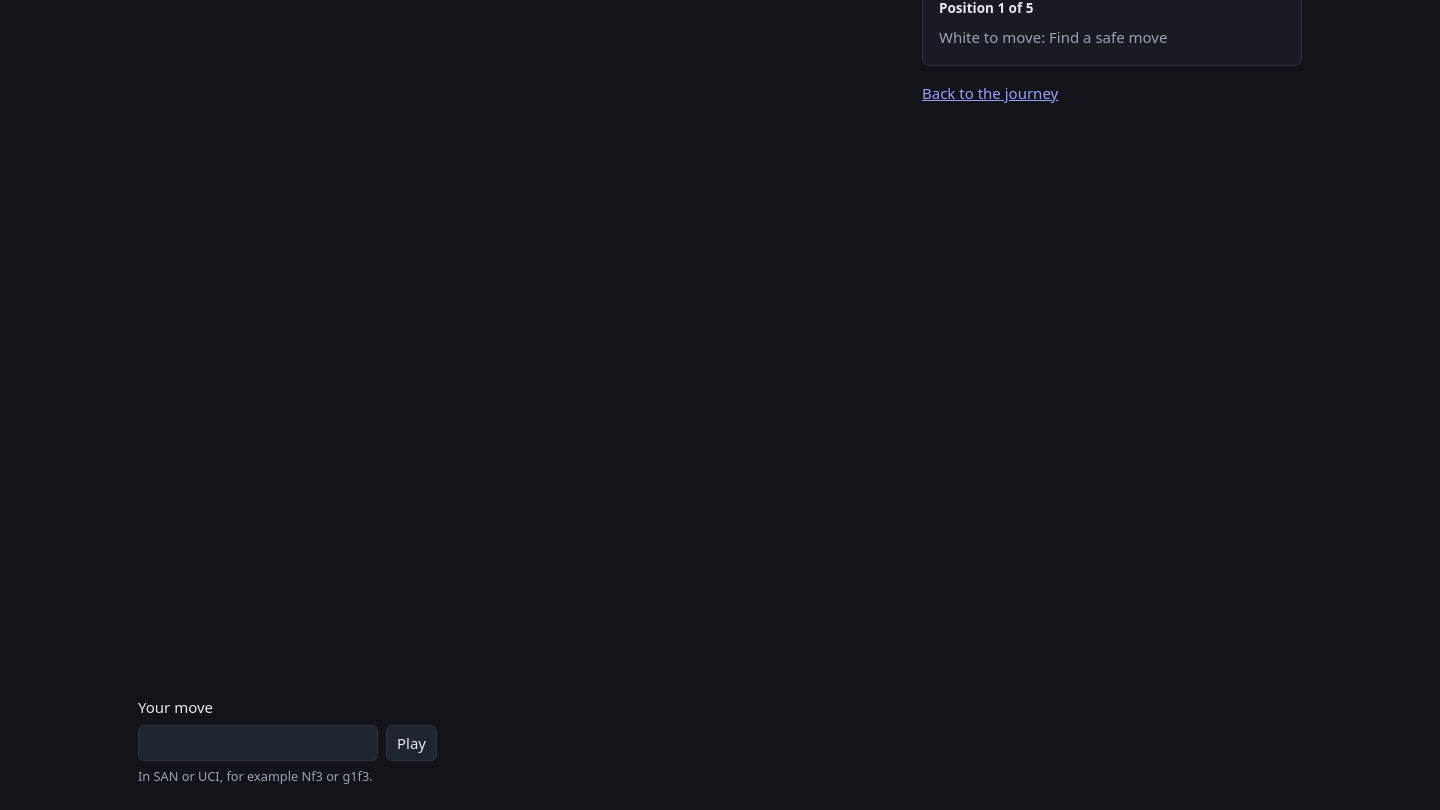
Test: Errors while answering › a 400 is refused without a reload, and the move can be chosen again
(page scrolled)
Type "Nxd4" into the field labelled "Your move" at (258, 743), box [138, 724, 378, 761]
Then press Enter
(page scrolled)
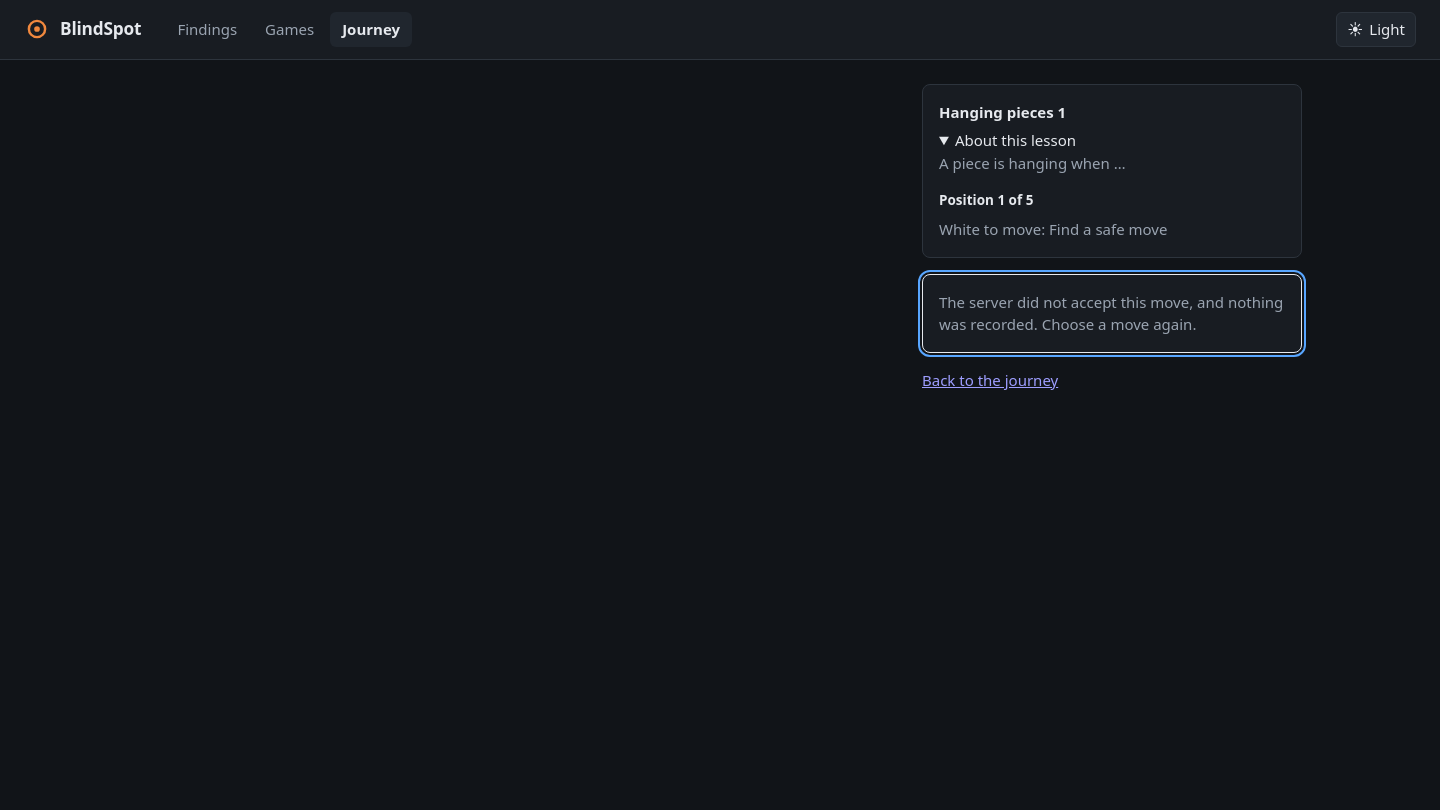
Expected: the heading "Position 1 of 5" is shown, [939, 191, 1034, 209]
Result: the element named "Notice" shows "The server did not accept this move, and nothing was recorded." at [939, 292, 1283, 334]
